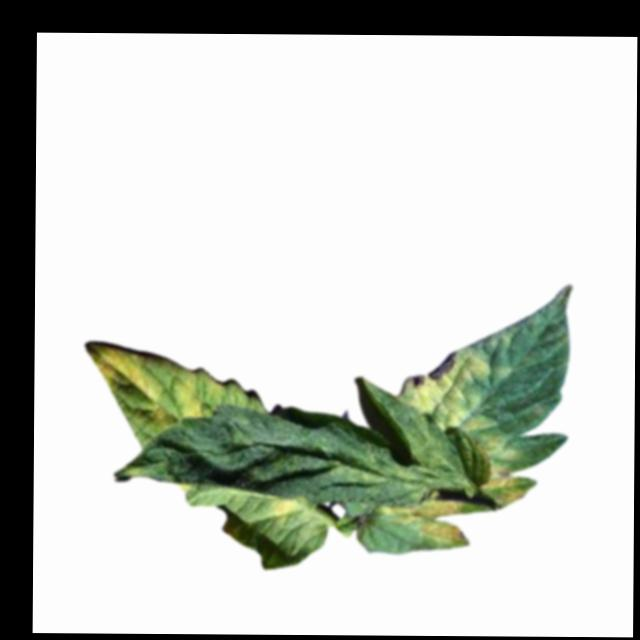Leaf_Mold: (83, 340, 225, 428), (329, 418, 466, 497), (396, 348, 498, 435), (378, 494, 472, 549), (475, 435, 531, 510), (272, 495, 306, 529)
